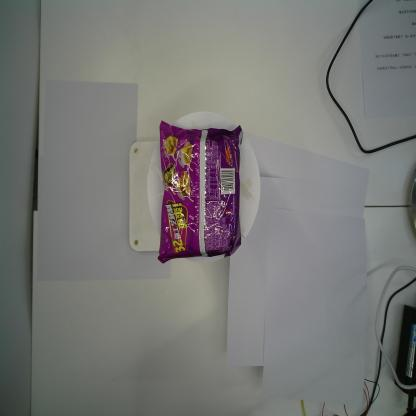Instant Noodles: (157, 120, 244, 265)
